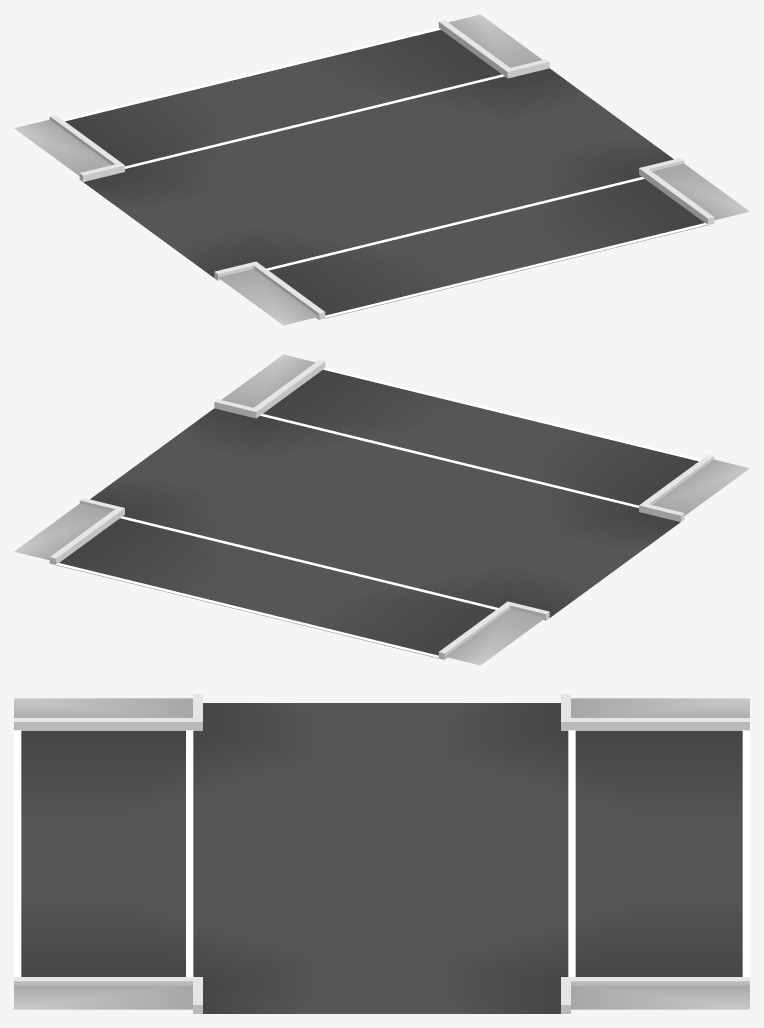
File: road_008.glb
3 views of the same model, one above another, from view 1: azimuth 30°, elevation 25°; view 2: azimuth 150°, elevation 25°; view 3: azimuth 270°, elevation 25° (orthographic). The views are drawn at different scales.
Parts seen in each view (by area): view 1: road_008; view 2: road_008; view 3: road_008.
Boxes of the visible parts, box(x1,y1,x2,y2) form: road_008: box(14, 14, 749, 325); road_008: box(14, 354, 749, 665); road_008: box(14, 694, 749, 1013).
Bounding box in the file's own units: 15 × 0.2 × 15.
Materials: 1 (1 with a texture image).
